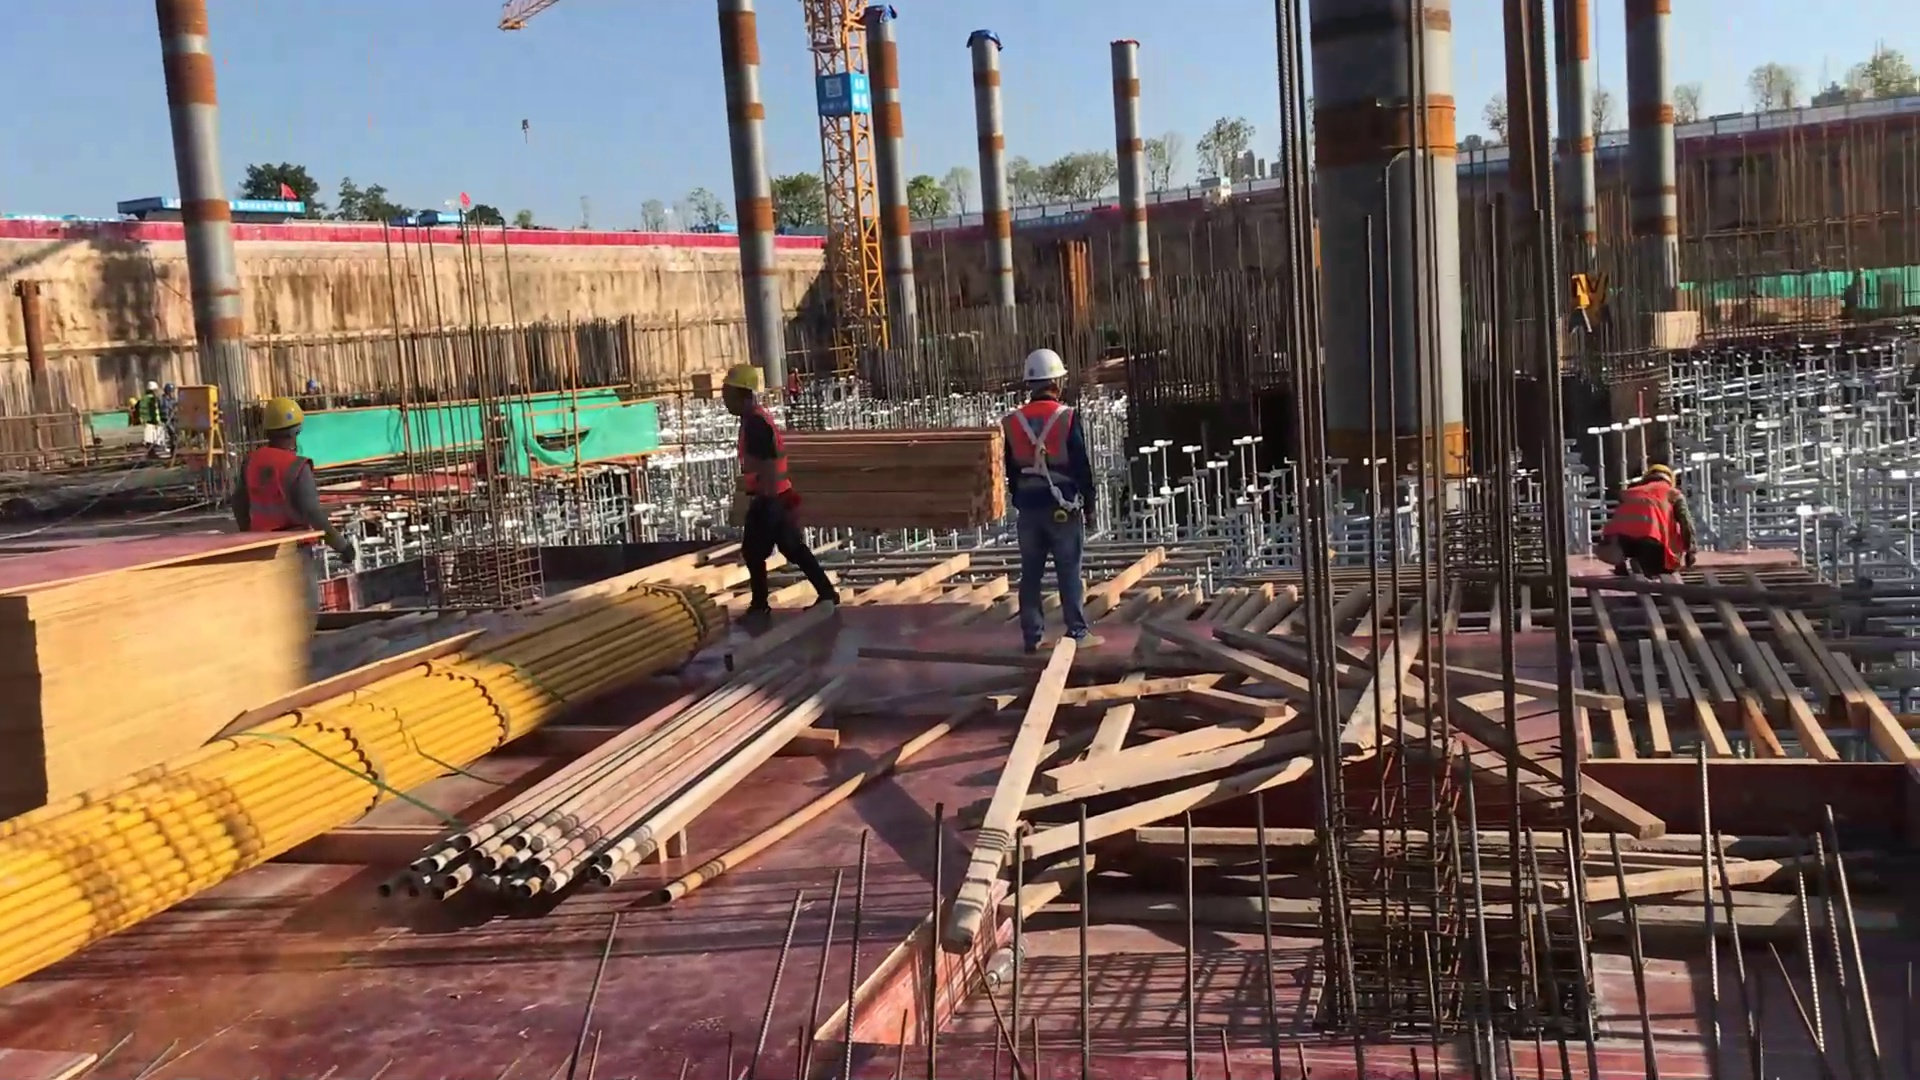helmet: (258, 395, 311, 443), (1017, 343, 1072, 386), (717, 362, 768, 406), (1631, 456, 1676, 491)
person: (994, 337, 1114, 665), (708, 358, 853, 627), (233, 381, 358, 626), (1586, 458, 1707, 591)
vest: (1590, 481, 1693, 572), (1001, 404, 1086, 506), (729, 411, 800, 515), (239, 444, 314, 537)
